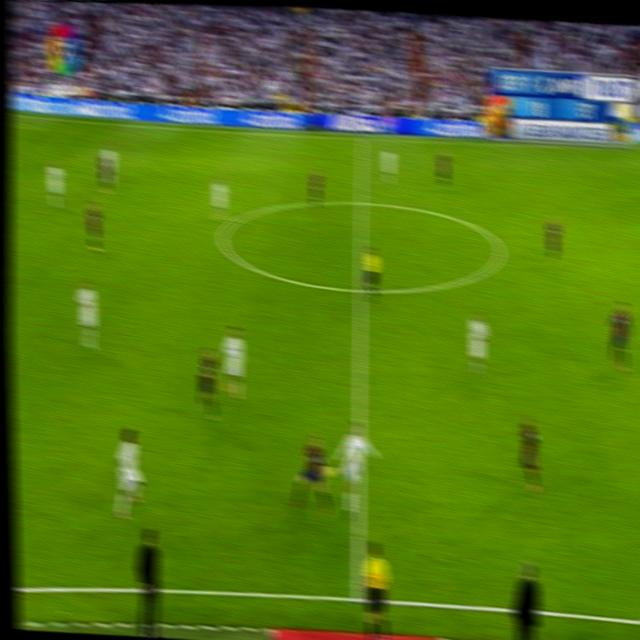halfcircle_bottom: (351, 276, 369, 301)
halfcircle_top: (353, 190, 369, 212)
midline_bottom_intersection: (346, 582, 369, 607)
midline_top_intersection: (356, 131, 367, 144)
